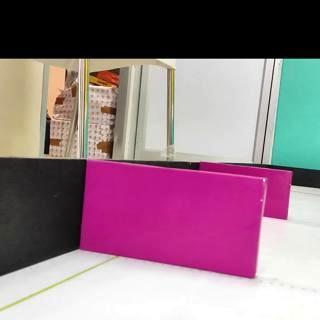xparking: (80, 161, 266, 278), (264, 169, 292, 220)
